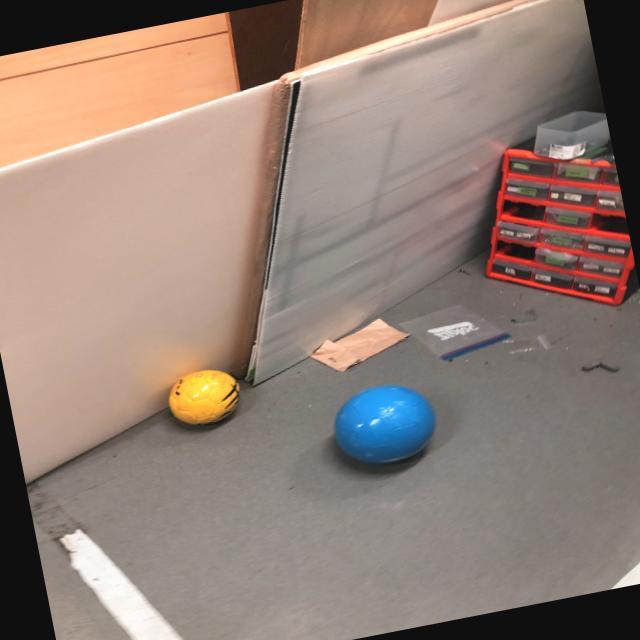blue_ball: (318, 374, 448, 478)
